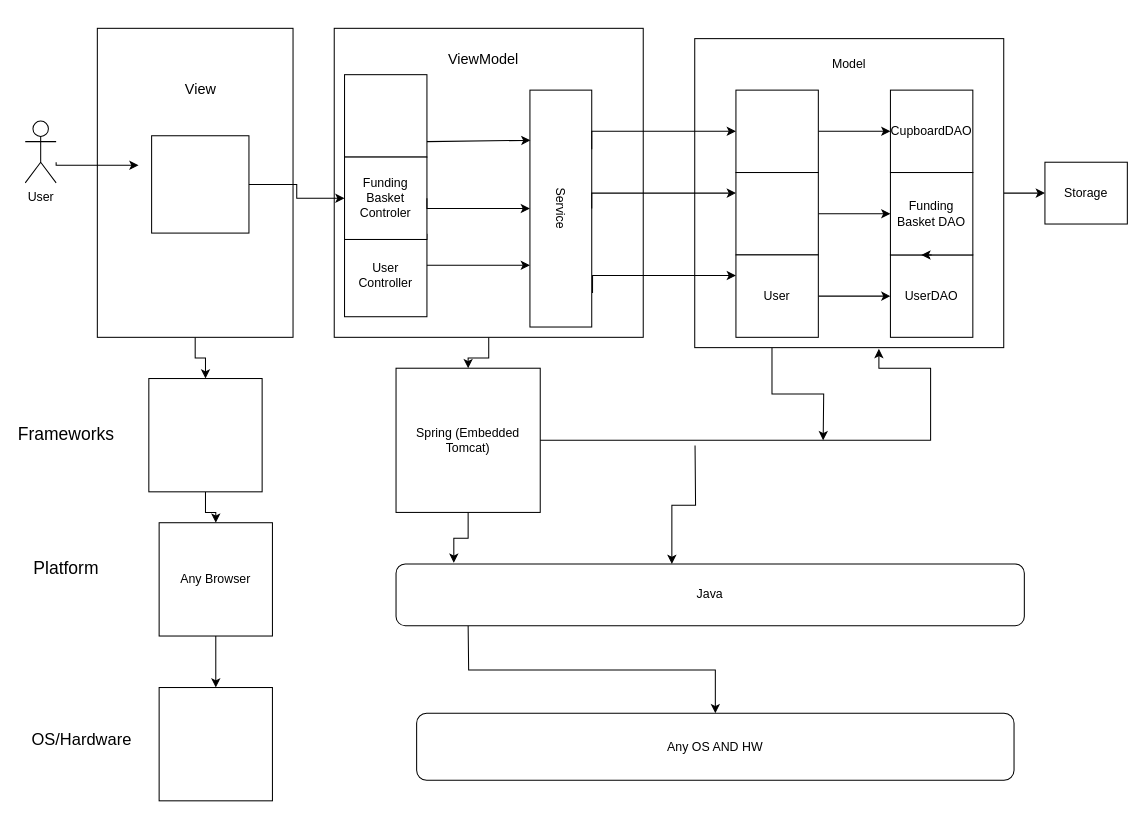
Some shapes in this 1145 by 819 pixel diagram are drawn without their labels. Here are the shapes that lost their labels. From the top down, the centre of each, then its label:
the point at 385,115: Cupboard Controller
the point at 776,131: Need
the point at 200,184: Client UI
the point at 776,213: Funding Basket
the point at 205,434: Angular & Typescript
the point at 215,743: Any OS
